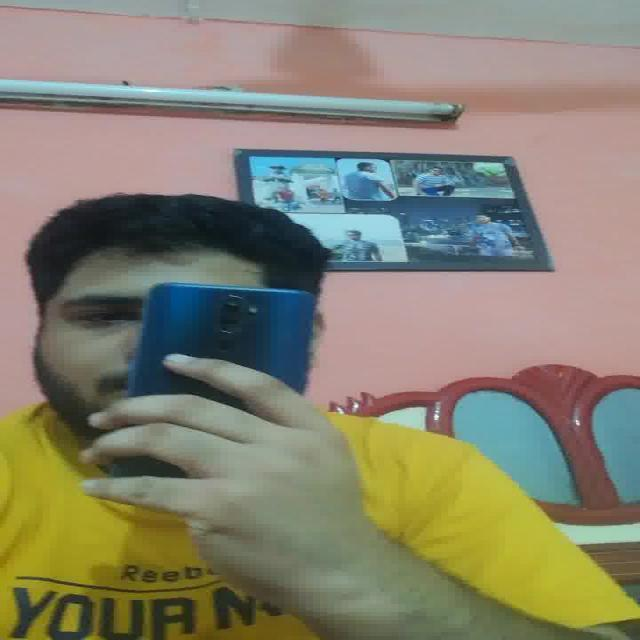Phone: (133, 280, 320, 402)
